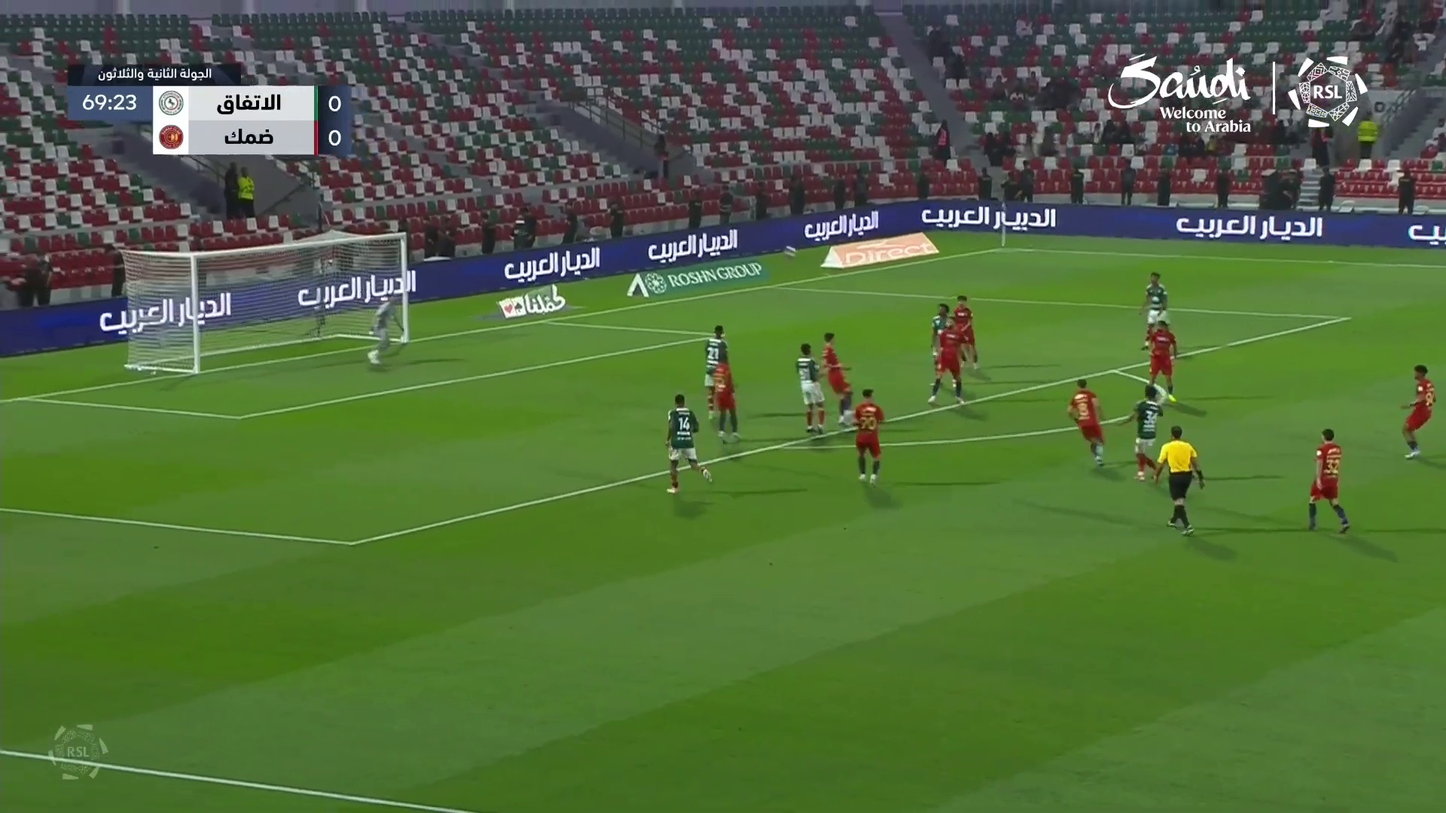ball: (781, 244, 798, 261)
player: (1302, 427, 1353, 538), (662, 392, 714, 495), (1395, 363, 1442, 462), (1065, 379, 1112, 470), (1125, 386, 1167, 483), (926, 317, 969, 408), (849, 387, 888, 486), (818, 331, 857, 426), (363, 293, 413, 367), (1142, 319, 1183, 404), (792, 342, 829, 436), (708, 357, 743, 447), (1138, 271, 1172, 349), (949, 293, 983, 371), (700, 324, 732, 399), (927, 302, 951, 363)
referee: (1154, 426, 1208, 537)
